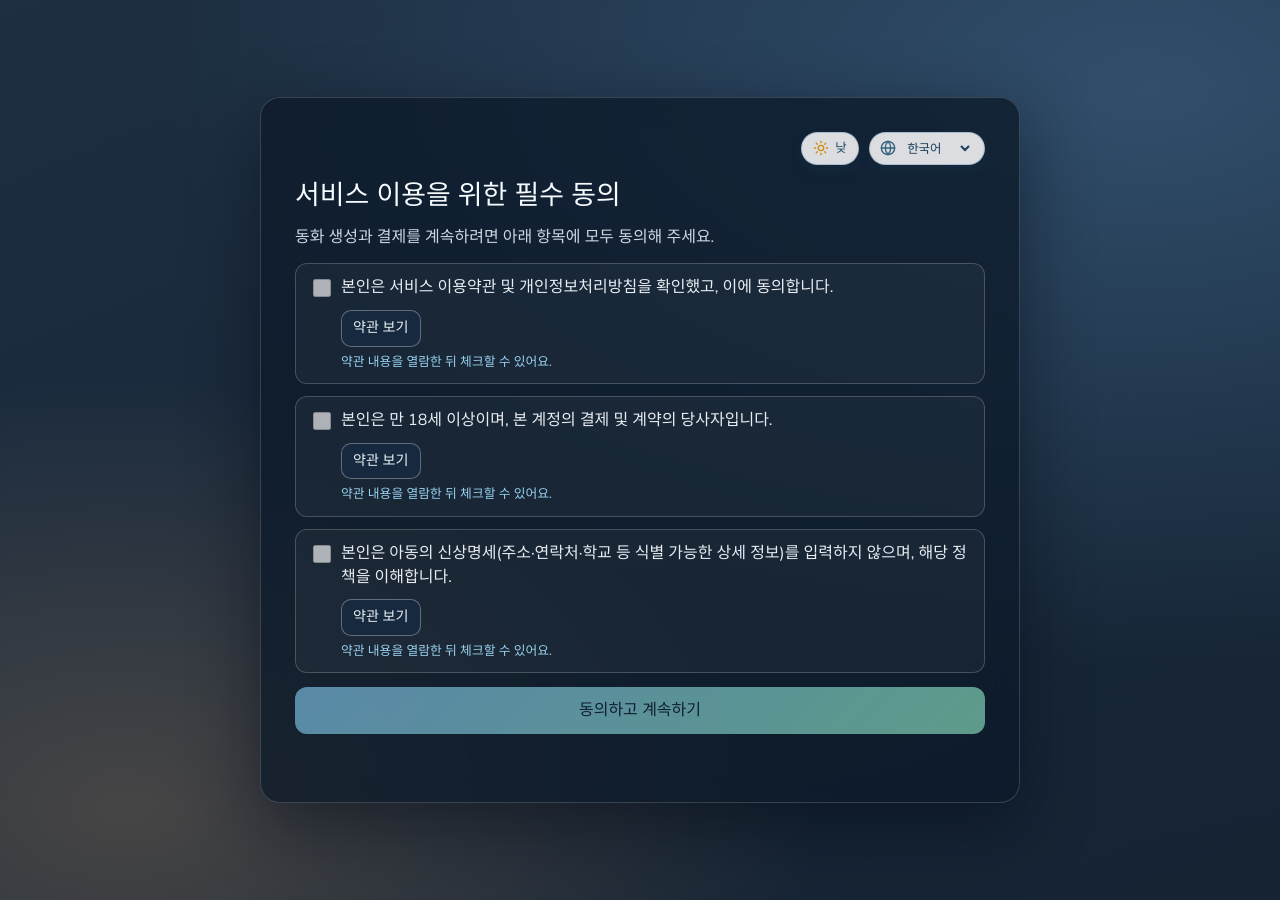
Test case: AgreementsPage › 약관 문서는 마크다운으로 렌더링된다
Click the button "약관 보기" below "본인은 서비스 이용약관 및 개인정보처리방침을 확인했고, 이에 동의합니다." at (381, 328), box [341,310,420,346]
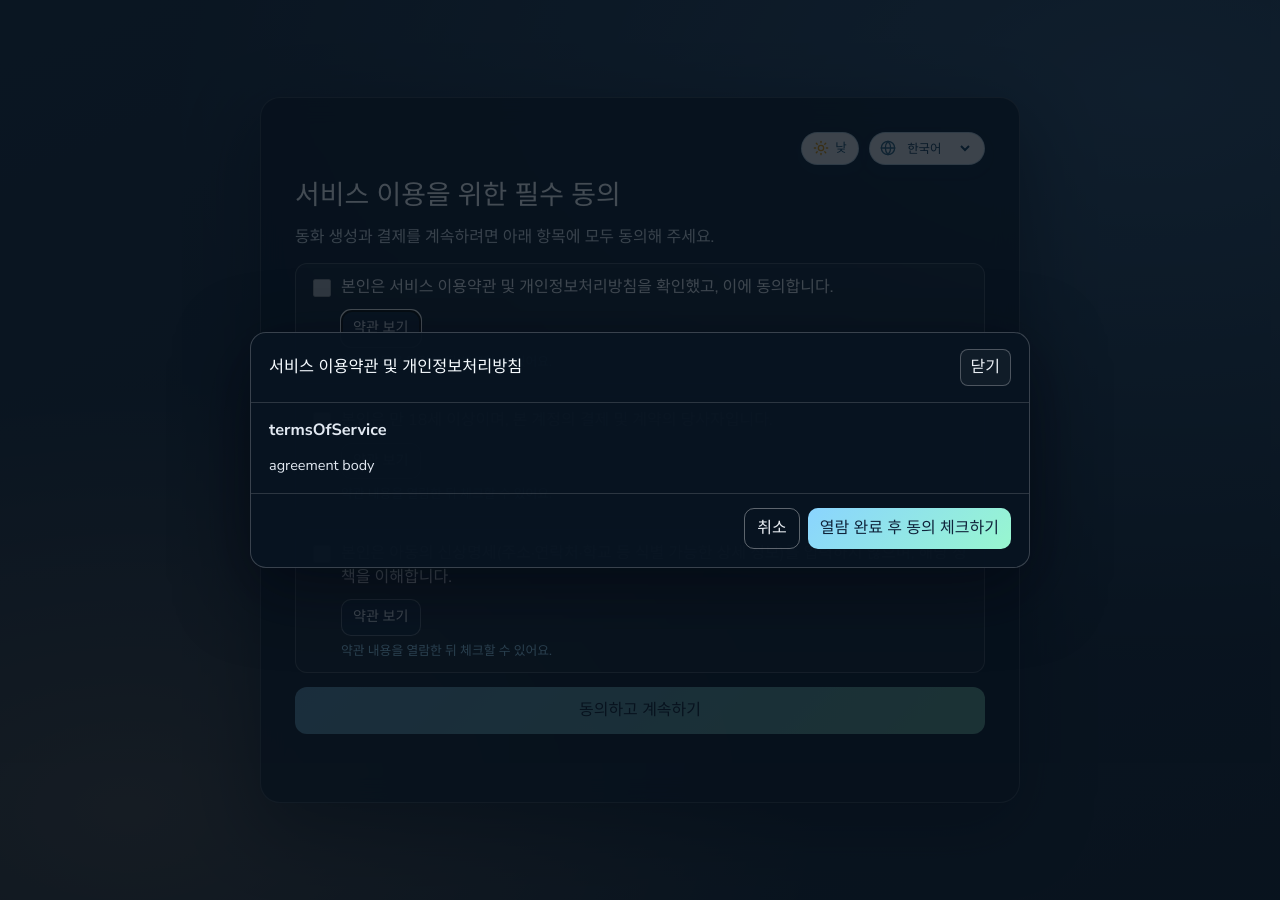
Check: the heading "termsOfService" is shown, box [269,419,387,441]
